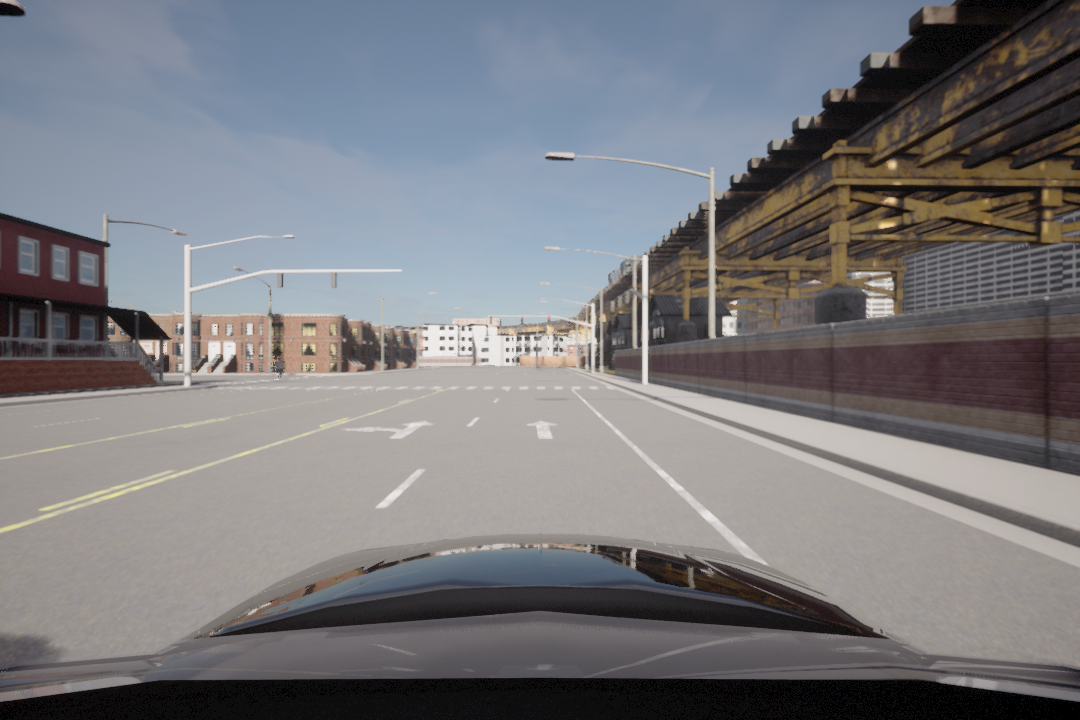RoadSign_forward: (524, 417, 561, 442)
RoadSign_forward_left: (334, 418, 441, 442)
